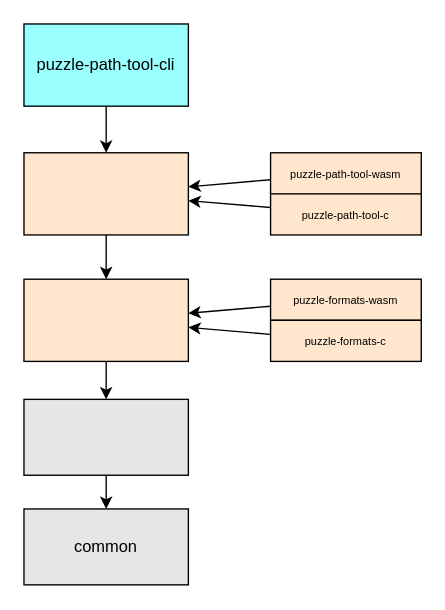
This 445x610 diagram has some shape labels left out. The box of each missing label's shape, as (x1, y1, x2, y2) in pixels:
common-macros: (23, 398, 188, 475)
puzzle-formats: (23, 278, 188, 361)
puzzle-path-tool: (23, 151, 188, 235)
